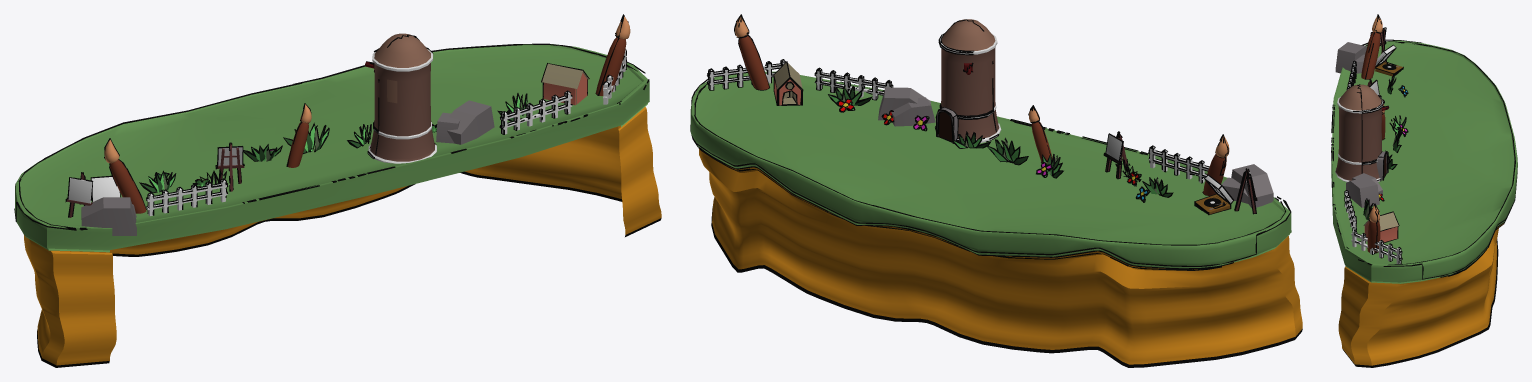
The model's file is Island.fbx.
3 views of the same model, side by side, from view 1: azimuth 30°, elevation 25°; view 2: azimuth 150°, elevation 25°; view 3: azimuth 270°, elevation 25° (orthographic). The views are drawn at different scales.
Visible parts, largest first — view 1: Plane.013; view 2: Plane.013; view 3: Plane.013.
Part boxes in pixels (bbox=[...]): Plane.013: bbox=[14, 14, 661, 367]; Plane.013: bbox=[690, 14, 1302, 367]; Plane.013: bbox=[1331, 14, 1517, 367].
Bounding box in the file's own units: 1406 × 550 × 489.
